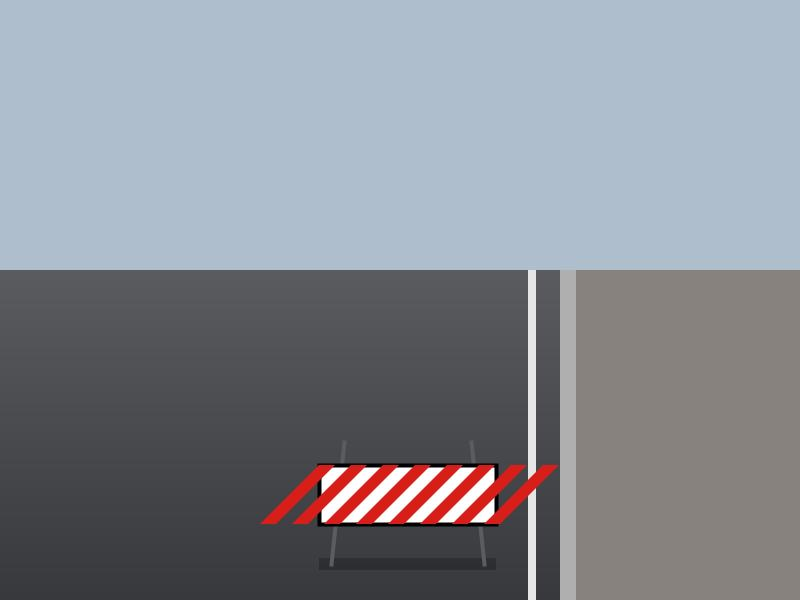ROAD_OBSTACLE: (319, 432, 496, 564)
